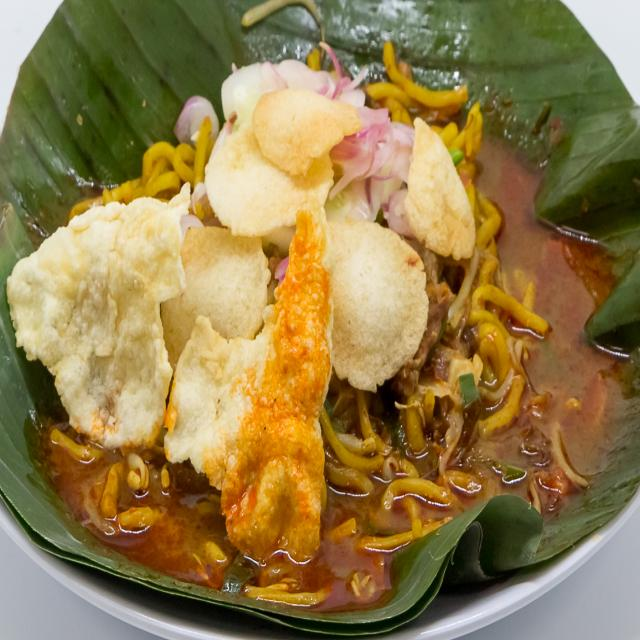Mie-Aceh: (11, 38, 563, 586)
